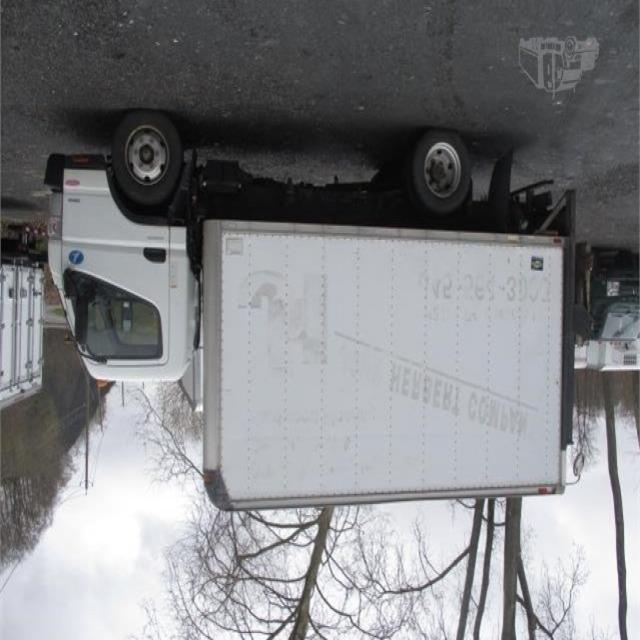truck: (43, 115, 561, 517)
